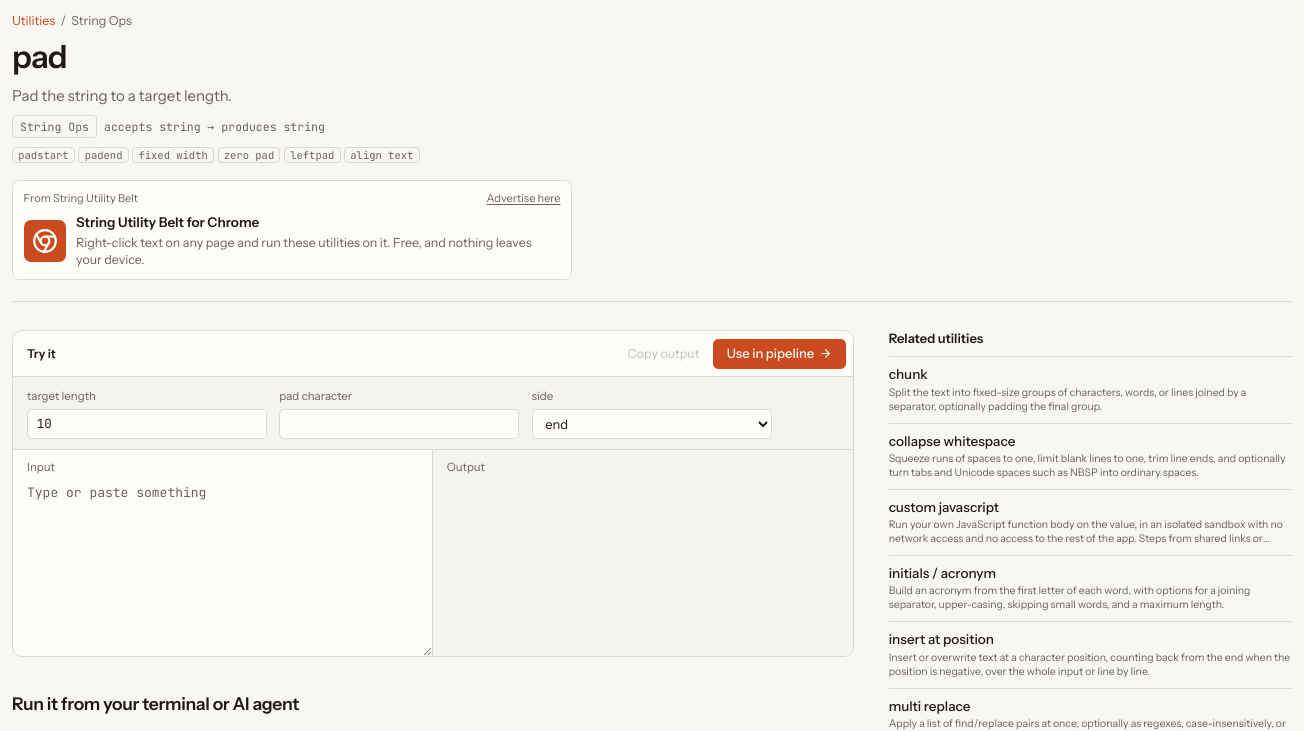
UtilityDocPage › re-runs the playground when a param changes
Step 1. Type "ab" into the text box named "playground input" → x=222, y=566, box [13,476,432,656]
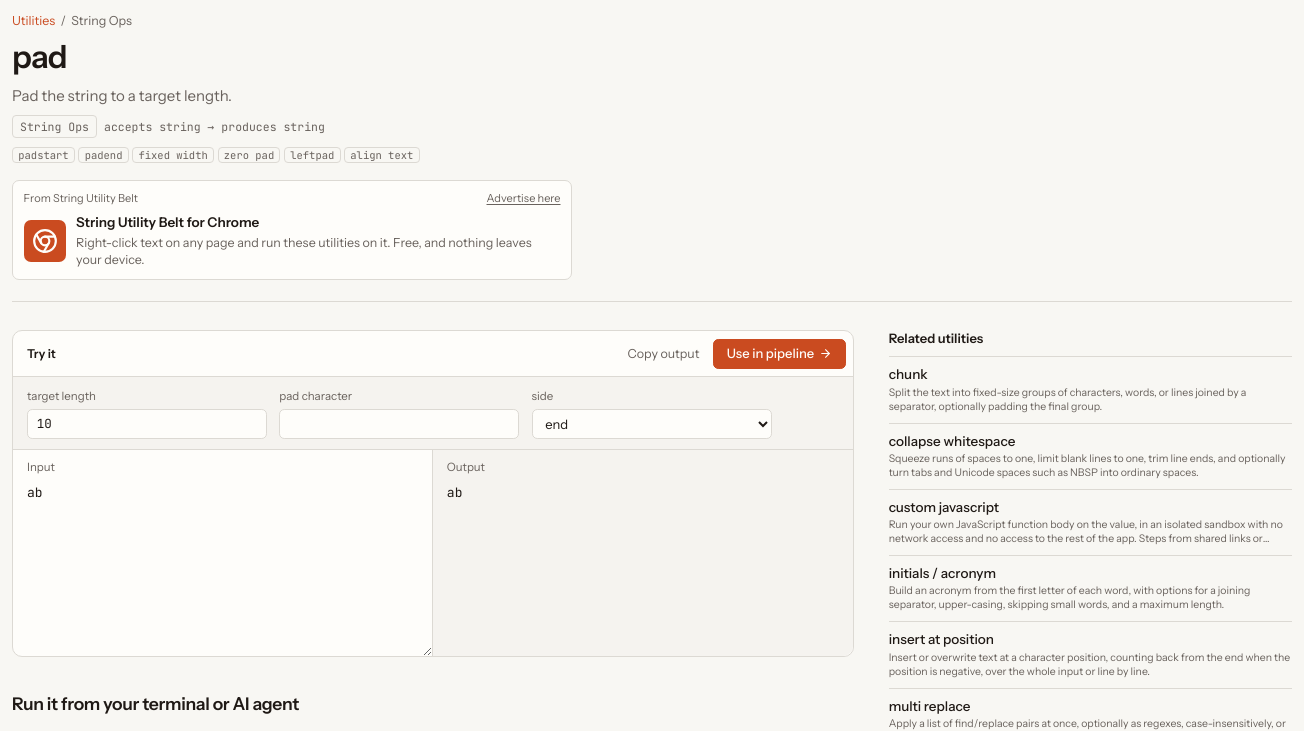
Check: the message named "playground output" reads "ab", box [447,484,525,500]
Step 2. Type "*" into the field labelled "pad character" → x=399, y=424, box [279,408,519,438]
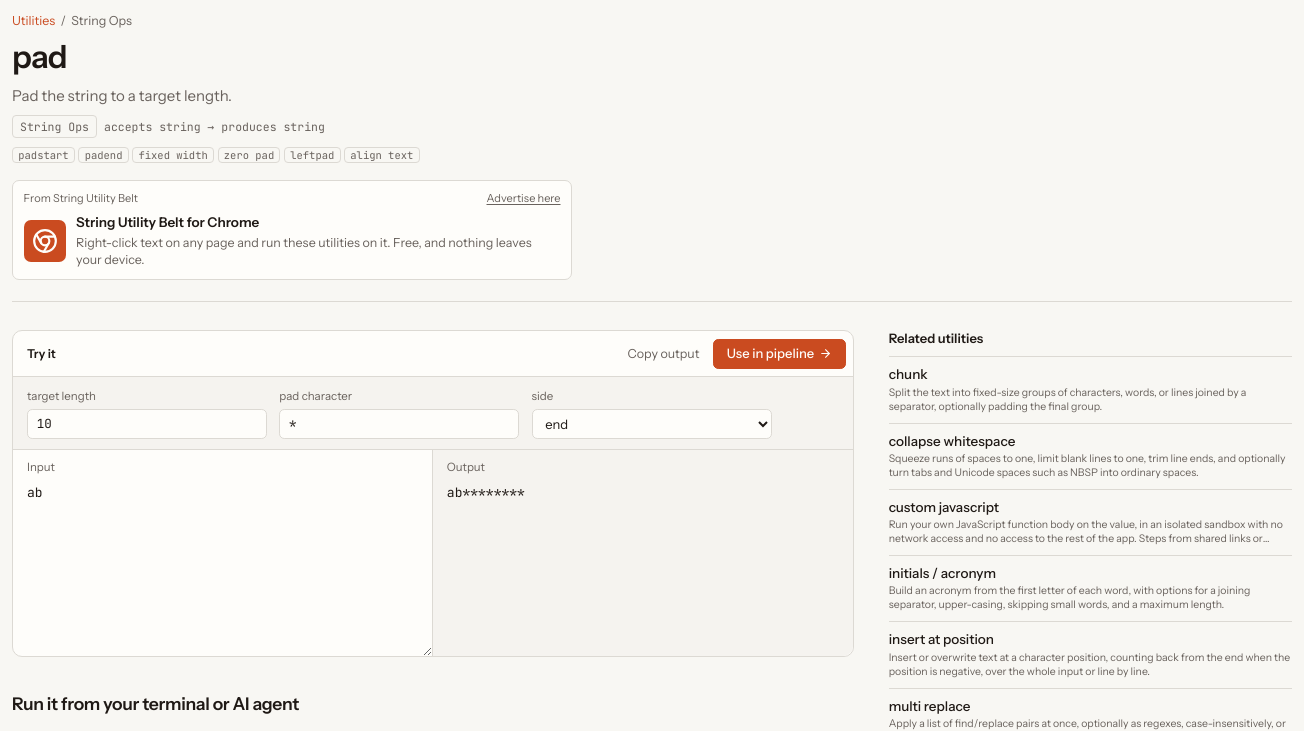
Check: the number field labelled "target length" is shown, box [27,408,267,438]
Check: the message named "playground output" reads "ab********", box [447,484,525,500]
